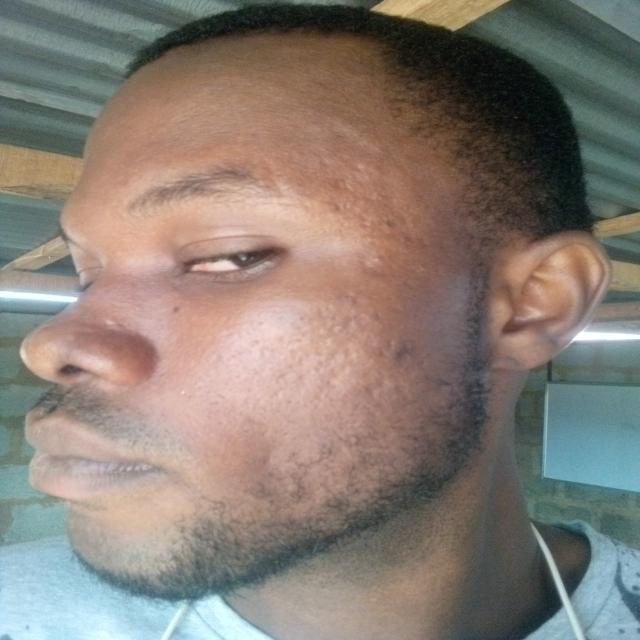acne: (384, 336, 420, 364), (378, 212, 402, 234)
pores: (245, 300, 396, 410), (336, 162, 392, 242), (330, 248, 401, 298)
